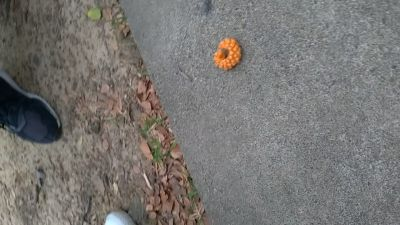eggs: (212, 36, 243, 72)
